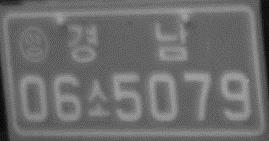0: (148, 72, 180, 124), (20, 75, 49, 123)
5: (111, 72, 144, 121)
6: (53, 73, 83, 124)
7: (182, 71, 213, 123)
9: (220, 71, 252, 121)
경남_D: (65, 20, 189, 65)
소: (85, 78, 111, 119)
영: (17, 26, 49, 63)
